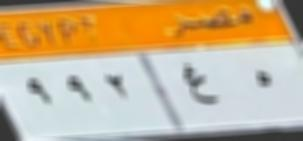2: (104, 71, 136, 107)
9: (65, 69, 96, 113), (25, 68, 55, 112)
ghayn: (175, 55, 220, 111)
haa: (248, 60, 280, 96)
